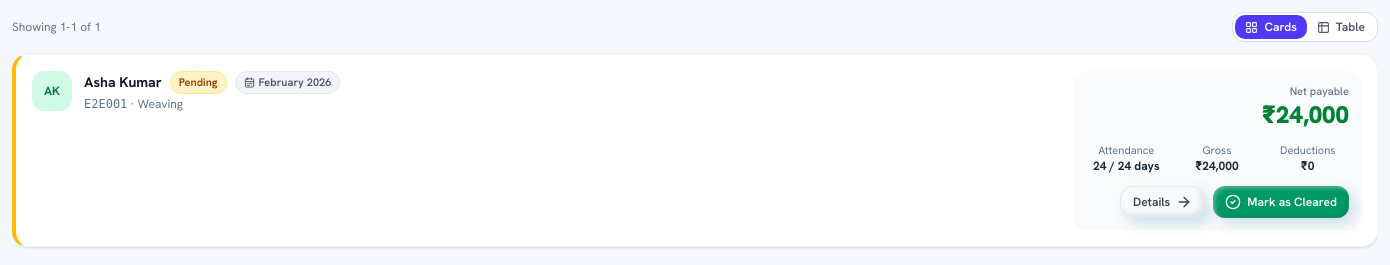
Test: the Cards | Table toggle › in the register Mark as Cleared is locked for a View Only role, Details is not
Click the button "Table".
click(1341, 27)  # box [1307,15,1375,39]
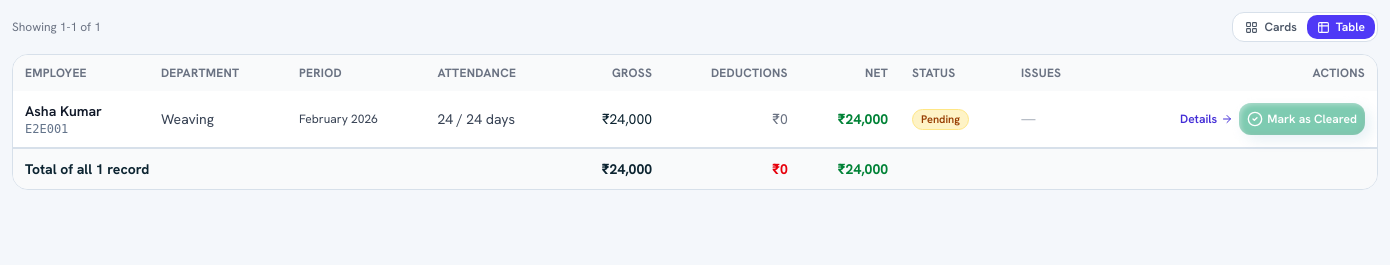
Expected: the button "Details" is enabled, [1180,111,1233,127]
Expected: the button "Mark as Cleared" is disabled, [1239,103,1365,135]
